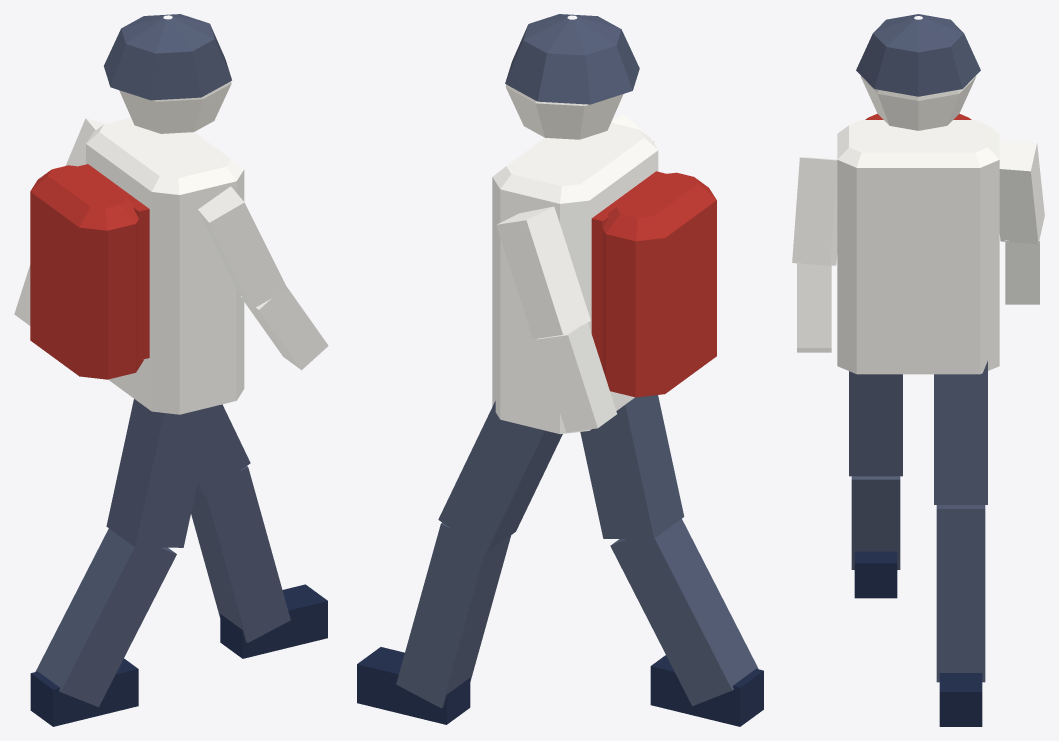
File: walker.glb
3 views of the same model, side by side, from view 1: azimuth 30°, elevation 25°; view 2: azimuth 150°, elevation 25°; view 3: azimuth 270°, elevation 25° (orthographic). The views are drawn at different scales.
Parts seen in each view (by area): view 1: model; view 2: model; view 3: model.
Boxes of the visible parts, <box> form: model: <box>14,14,328,726</box>; model: <box>357,14,763,726</box>; model: <box>792,14,1044,726</box>.
Size of the model in its own units: 0.9 by 1.8 by 0.6548.
